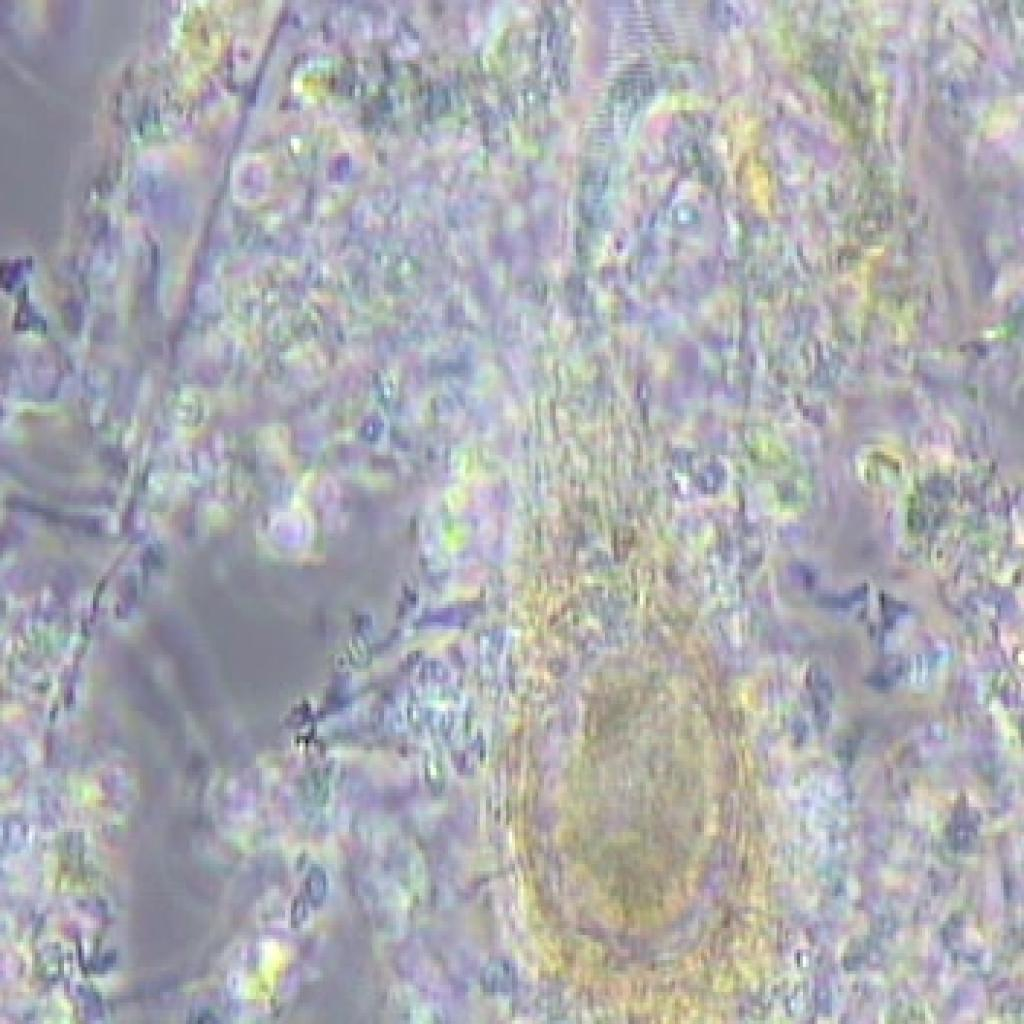Chaetopira: (480, 106, 776, 1024)
